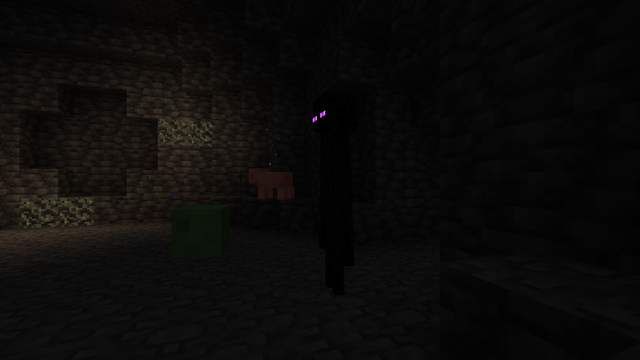cochons: (259, 170, 291, 199)
endermens: (308, 83, 361, 301)
slimes: (173, 202, 226, 258)
